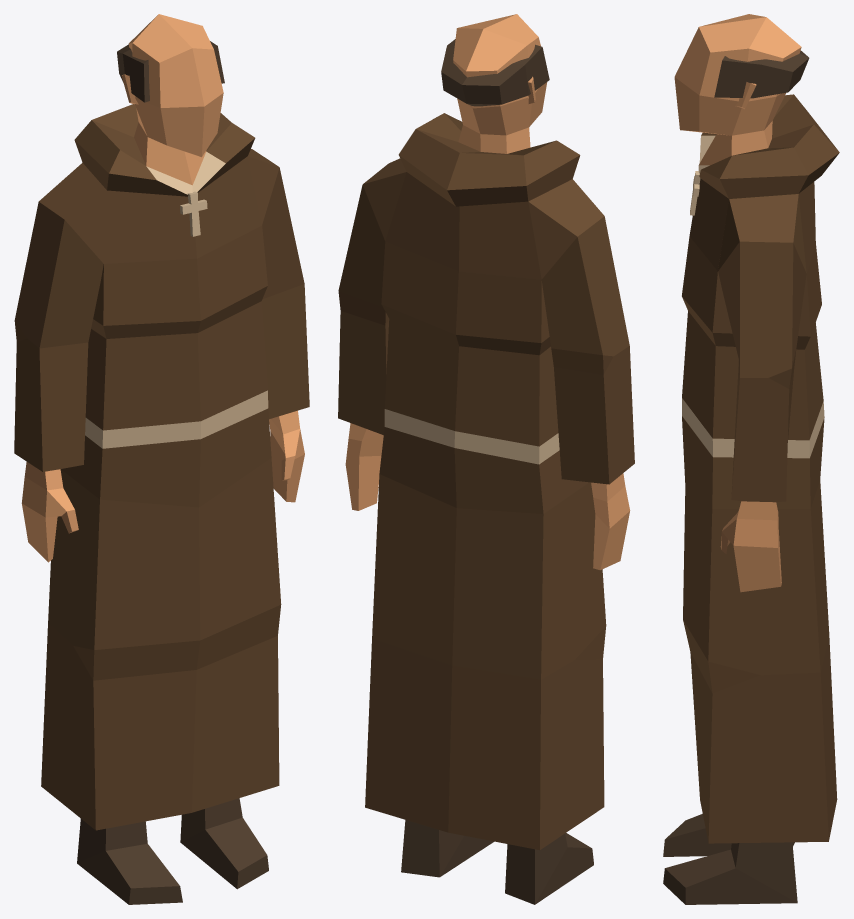
Rendered from man-monk.fbx.
3 renders of one model, left to right at view 1: azimuth 30°, elevation 25°; view 2: azimuth 150°, elevation 25°; view 3: azimuth 270°, elevation 25°, orthographic.
Visible parts, largest first — view 1: man-monk; view 2: man-monk; view 3: man-monk.
Boxes of the visible parts, x1,y1,x2,y2 form: man-monk: (14,14,309,904); man-monk: (338,14,634,904); man-monk: (663,14,839,904).
Bounding box in the file's own units: 0.599 × 1.79 × 0.3359.
